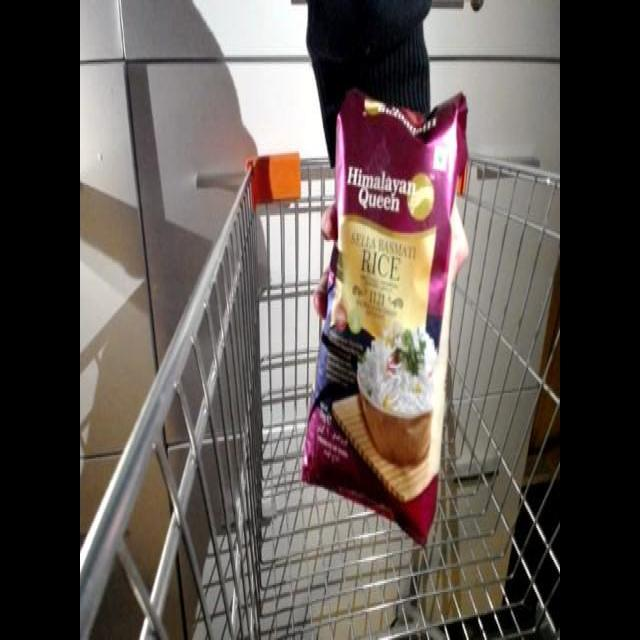Basmati Rice: (298, 81, 474, 548)
